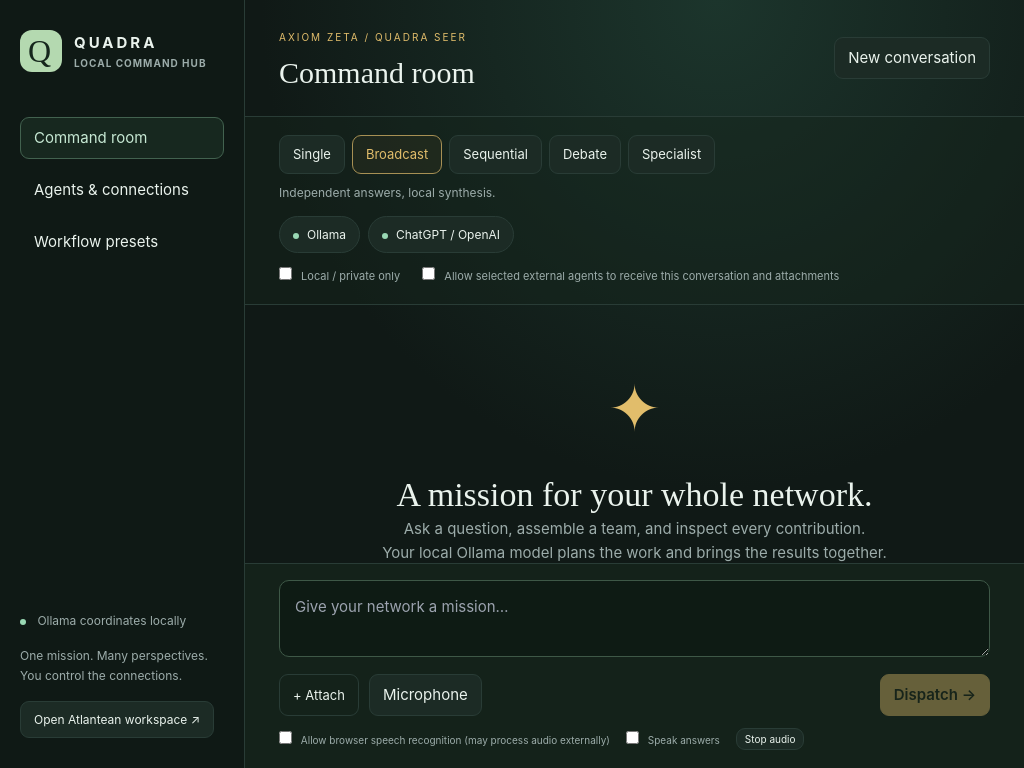
Scenario: Command hub › private mode removes external selections and disables sharing
Step 1. Click the button "ChatGPT / OpenAI" → (441, 235), box [368,216,514,253]
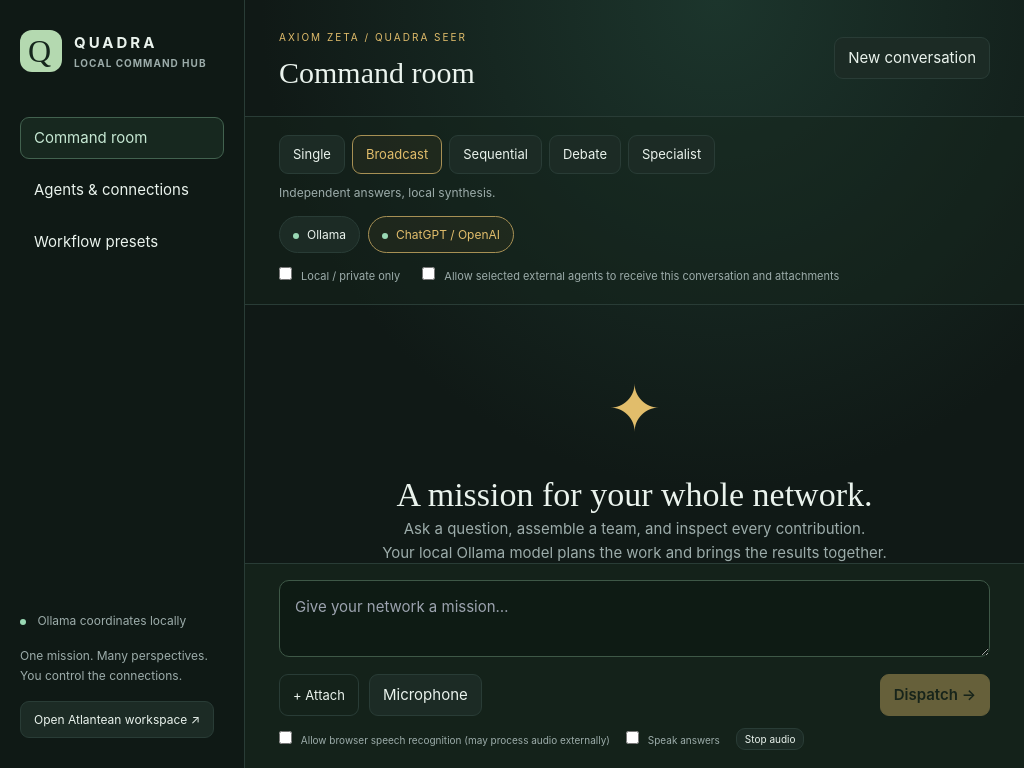
Step 2. Click the checkbox labelled "Local / private only" → (286, 274), box [279,267,292,280]
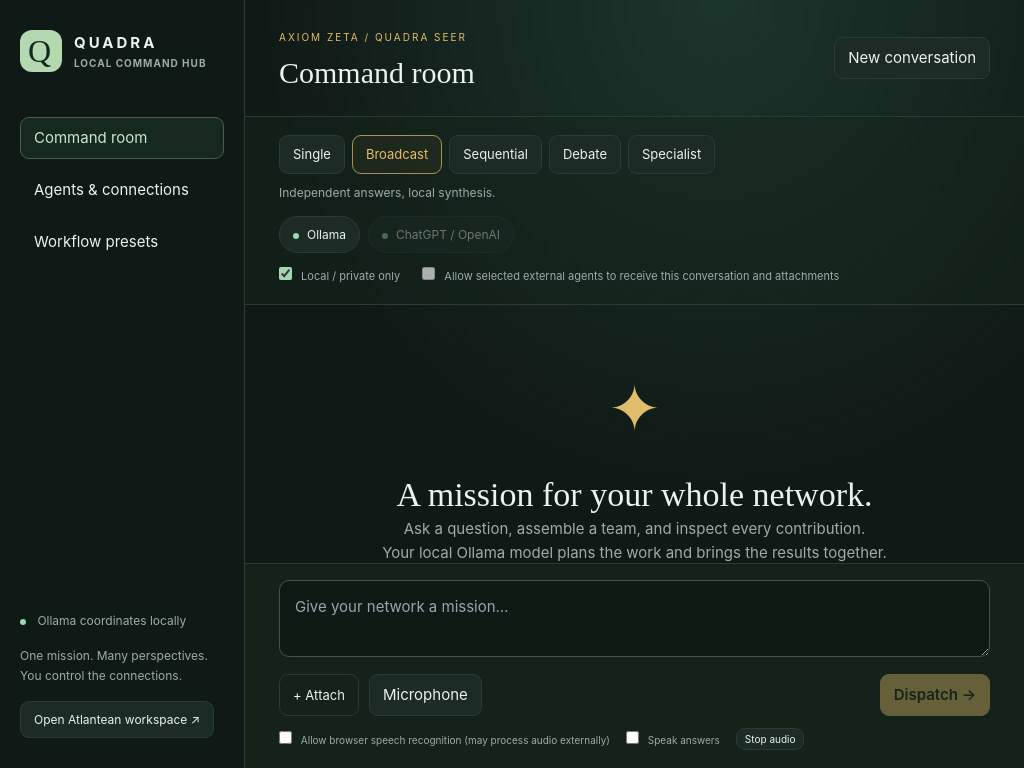
Check: the button "ChatGPT / OpenAI" is disabled, box [368,216,514,253]
Step 3. Type "Private request" into the text box named "Your request" → (634, 618), box [279,580,990,657]
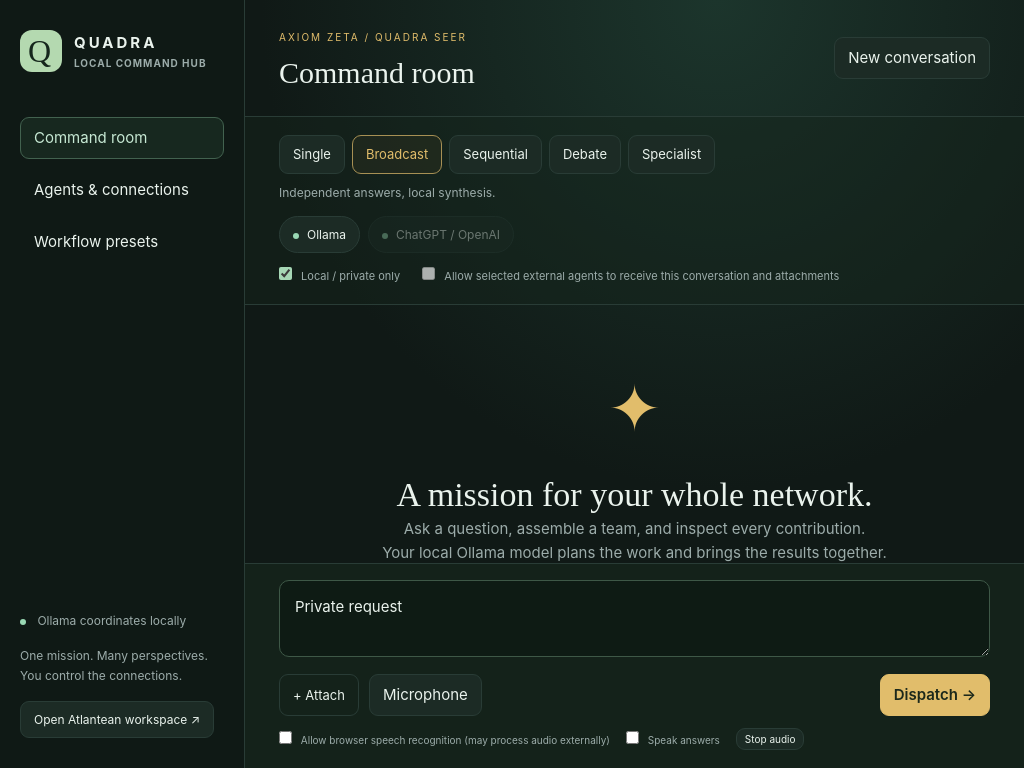
Step 4. Click the button "Dispatch →" → (935, 695), box [880,674,990,716]
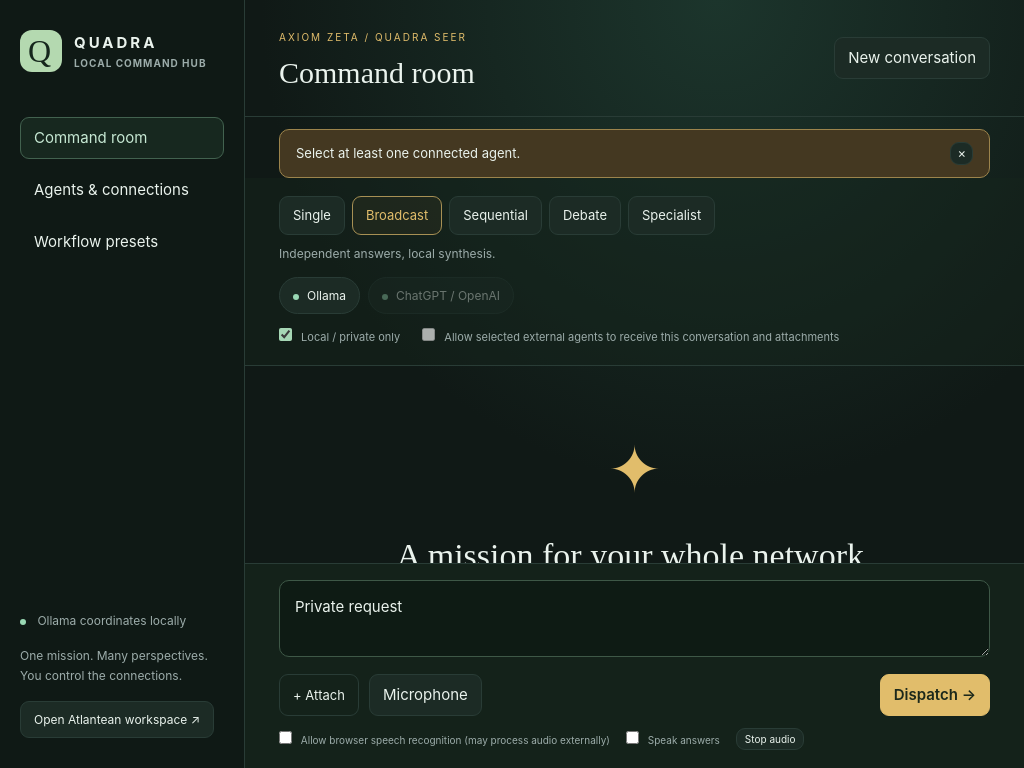
Check: the text "Select at least one connected agent." is shown, box [296,145,520,161]
